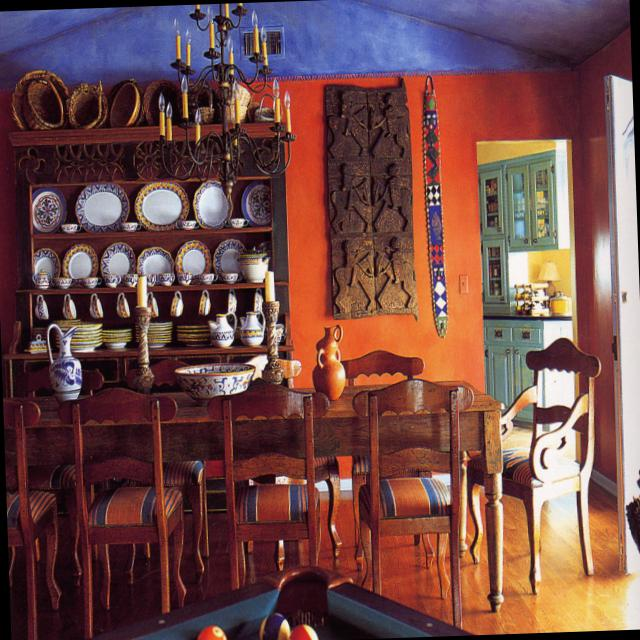-x: (514, 282, 537, 314)
air vent: (237, 24, 286, 59)
art: (324, 82, 419, 322), (421, 77, 448, 339)
bakset: (190, 87, 215, 123)
basket crop: (9, 66, 68, 130), (22, 75, 64, 129), (66, 81, 106, 129), (105, 76, 143, 126), (142, 79, 181, 123), (109, 81, 140, 125), (247, 81, 272, 120), (224, 81, 250, 106), (254, 92, 274, 120), (218, 103, 246, 122)
bowl -X: (174, 362, 256, 408)
butter dish: (24, 332, 47, 353)
cabinets: (487, 326, 543, 418)
candle holder: (260, 270, 285, 385), (131, 274, 151, 390)
chair -occluded-: (466, 335, 597, 592), (58, 383, 184, 634), (350, 377, 470, 626), (207, 381, 321, 586), (5, 399, 60, 640), (351, 452, 432, 571), (341, 348, 426, 383)
chandelier: (158, 2, 297, 200)
cup and saucer: (169, 290, 183, 316), (197, 289, 211, 315), (35, 294, 47, 319), (62, 294, 75, 317), (89, 295, 102, 316), (103, 272, 121, 287), (78, 276, 102, 287), (218, 271, 241, 282), (195, 272, 217, 283), (227, 288, 237, 312), (158, 270, 175, 284), (49, 277, 72, 287), (122, 272, 138, 286), (149, 292, 157, 318), (177, 272, 191, 285), (147, 273, 156, 285)
cupboard crop: (506, 161, 557, 247), (481, 172, 508, 303)
door bars: (603, 76, 640, 571)
hutch: (4, 121, 291, 391)
jug: (45, 323, 85, 402), (241, 303, 268, 349)
lamp crop: (536, 261, 561, 300)
light switch: (458, 272, 468, 293)
pitcher: (311, 323, 345, 401), (207, 311, 237, 346)
plate food: (74, 181, 129, 234), (134, 180, 189, 230), (192, 178, 233, 229), (61, 242, 98, 286), (100, 241, 135, 286), (32, 186, 66, 232), (174, 237, 209, 281), (136, 245, 173, 286), (240, 179, 270, 227), (212, 237, 245, 280), (34, 246, 60, 287), (256, 238, 273, 269)
pool ball: (257, 609, 290, 639), (198, 622, 229, 640), (286, 623, 319, 639)
pool table: (72, 561, 474, 640)
serving dish: (35, 265, 50, 286)
serving pot: (237, 244, 270, 283)
stack of plates: (58, 322, 102, 352), (134, 320, 172, 347), (176, 325, 208, 346), (101, 325, 131, 347)
table -X: (5, 380, 502, 610)
tea cup: (227, 217, 250, 227), (60, 222, 81, 232), (120, 221, 141, 230), (183, 218, 200, 229)
up: (115, 293, 129, 317)
